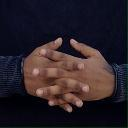hand: (33, 39, 115, 105), (21, 37, 90, 113)
